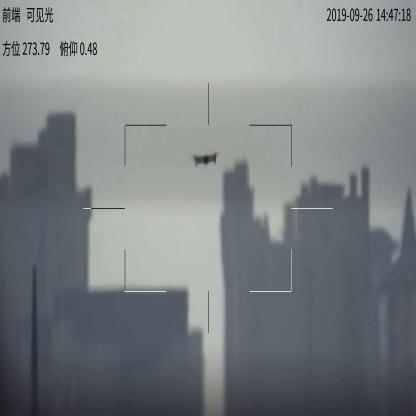uav: (191, 151, 220, 169)
